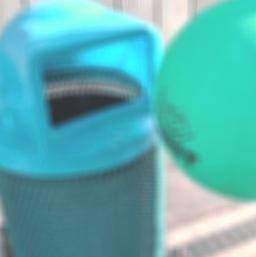algae: (152, 0, 256, 198)
